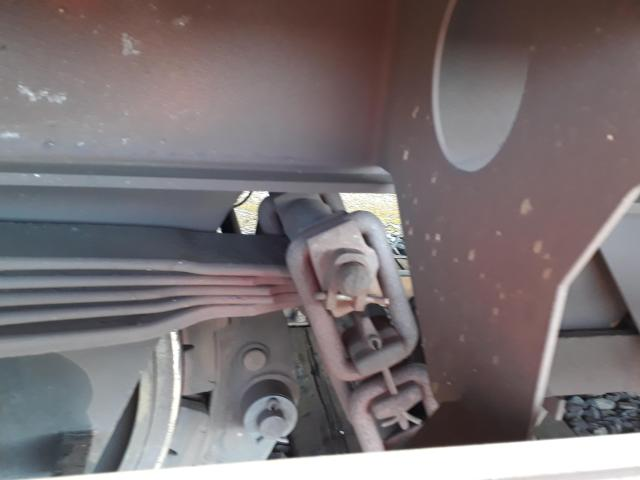blattfederww: (1, 224, 276, 345)
